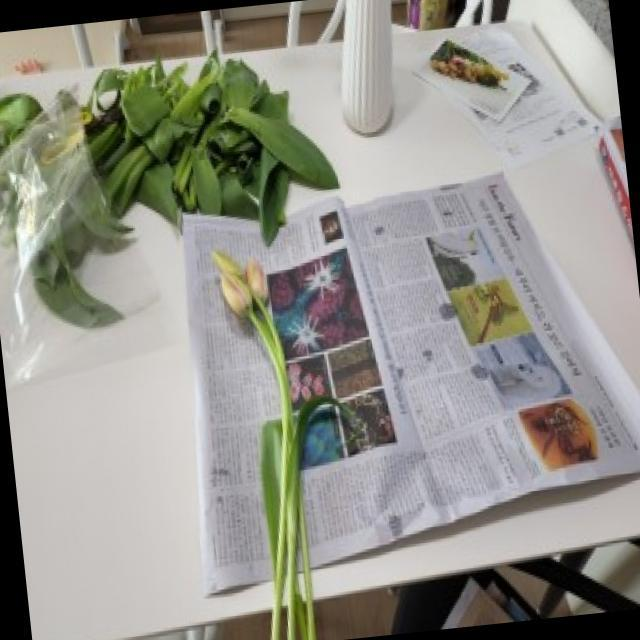reuseable_paper: (182, 151, 640, 529)
